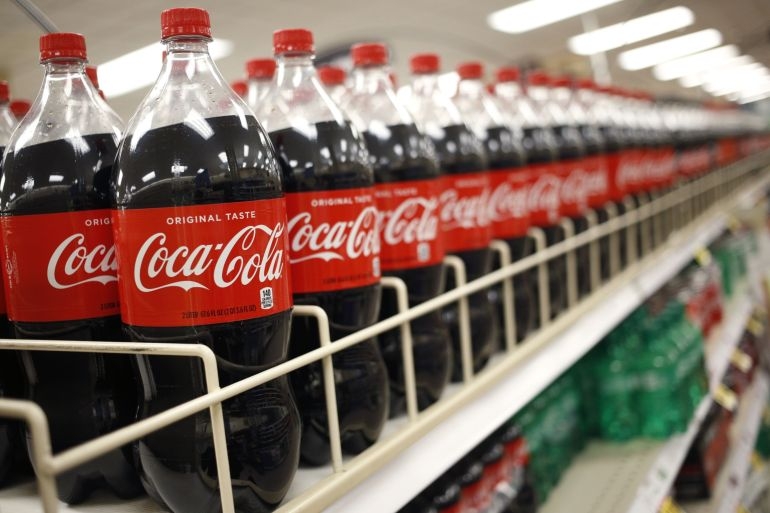plastic_bottle: (217, 12, 522, 513), (302, 19, 543, 513), (112, 2, 340, 513), (392, 19, 618, 513), (527, 44, 749, 454), (330, 8, 506, 512), (549, 47, 770, 443), (238, 32, 404, 503), (2, 5, 159, 484), (432, 32, 579, 403), (453, 16, 573, 439), (496, 37, 631, 397), (654, 46, 754, 497), (589, 49, 691, 355), (699, 57, 770, 319)
